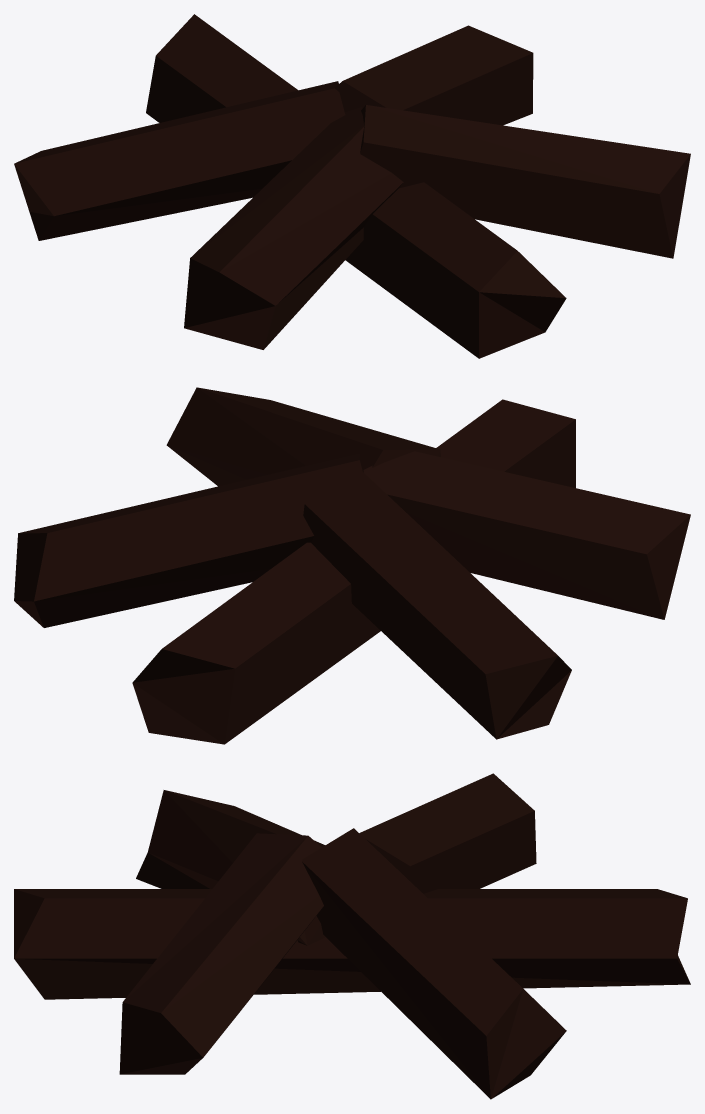
The model's file is CampFire_Wood.fbx.
The picture shows the model from 3 angles, top to bottom: view 1: azimuth 30°, elevation 25°; view 2: azimuth 150°, elevation 25°; view 3: azimuth 270°, elevation 25°; orthographic projection. The views are drawn at different scales.
Parts seen in each view (by area): view 1: CampFire_Wood; view 2: CampFire_Wood; view 3: CampFire_Wood.
Part boxes in pixels (x1,y1,x2,y2): CampFire_Wood: (14, 14, 690, 358); CampFire_Wood: (14, 387, 690, 744); CampFire_Wood: (14, 773, 690, 1099).
Size of the model in its own units: 90.3 by 24.9 by 103.
